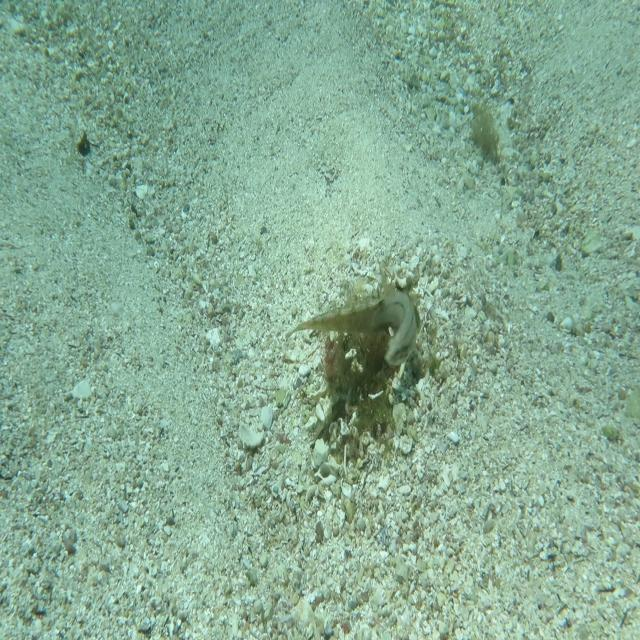ROLL: (280, 276, 423, 344)
female: (369, 278, 418, 368)
nest: (312, 259, 448, 479)
